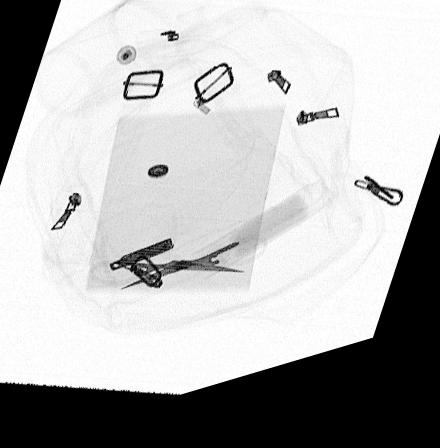Scissors: (88, 248, 270, 299)
